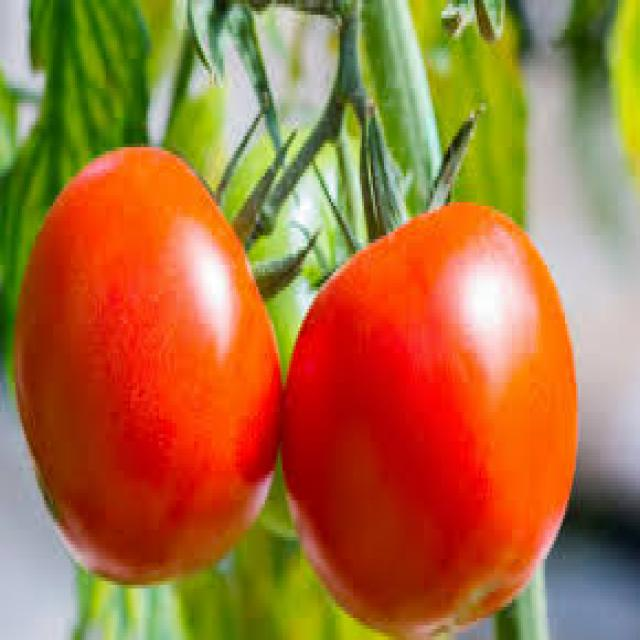Fresh_tomato: (16, 145, 274, 587), (288, 202, 562, 612)
